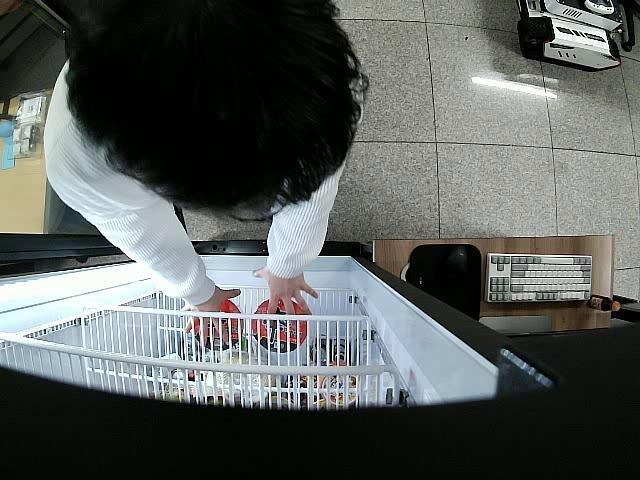01_ShinRamen_L: (250, 300, 308, 351), (194, 300, 242, 351)
